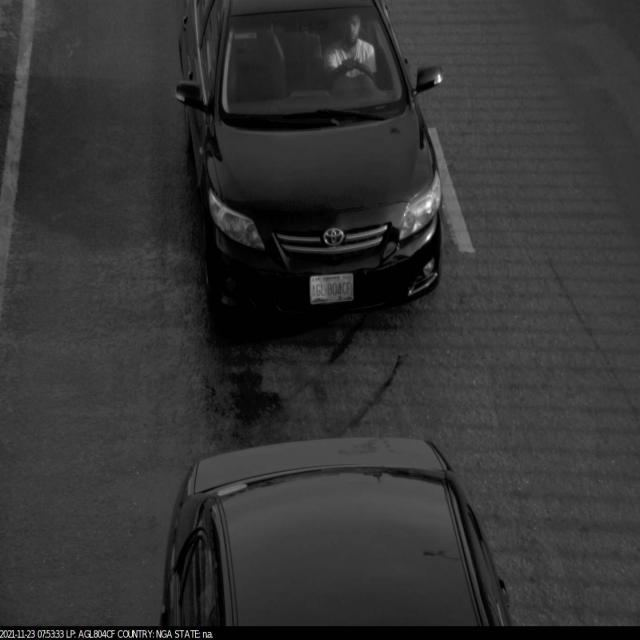windshield: (209, 5, 419, 129)
